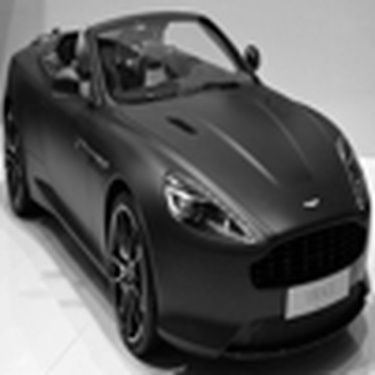car: (7, 1, 372, 371)
